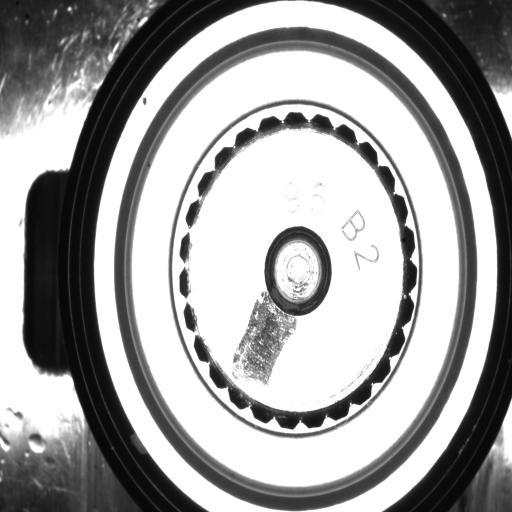gear: (179, 111, 418, 430)
